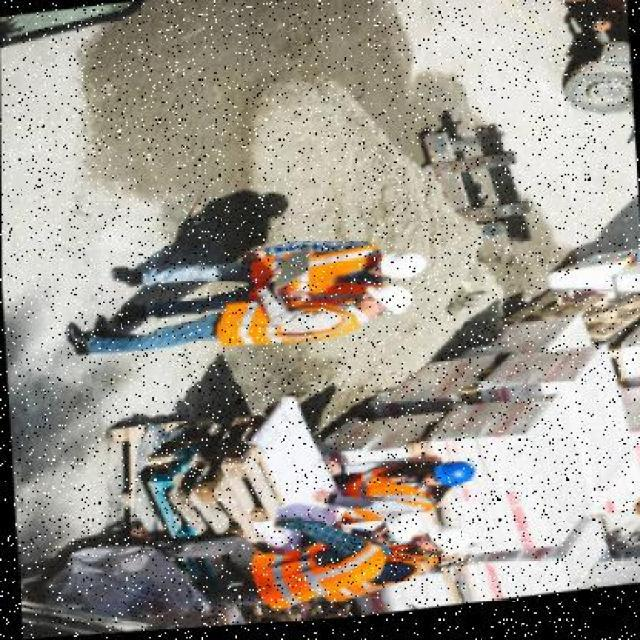helmet: (411, 525, 476, 573), (416, 457, 473, 501), (370, 250, 424, 288), (359, 286, 410, 324)
vest: (242, 538, 390, 614), (206, 296, 362, 358), (288, 246, 379, 304), (334, 471, 410, 515)
